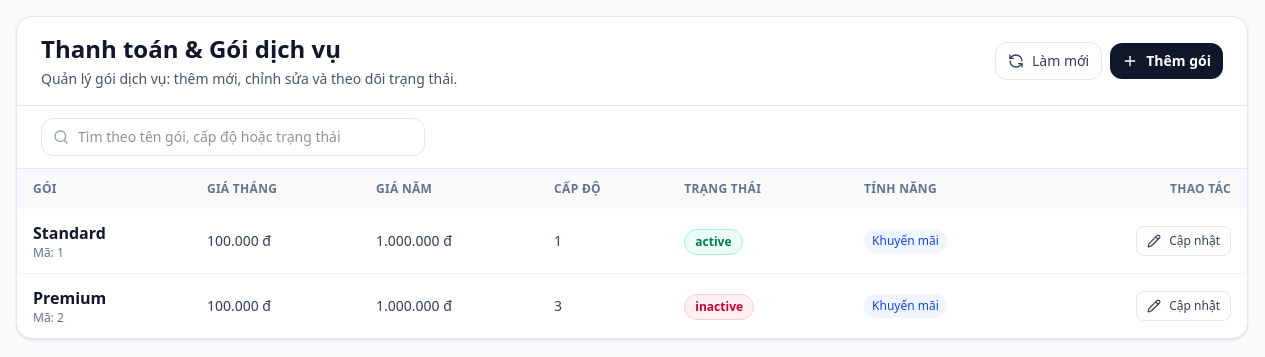
it: Integration: Admin Billing Subscriptions Flow › loads plans and supports search filtering
Expected: the heading "Thanh toán & Gói dịch vụ" is shown, [41,32,341,65]
Expected: the text "Standard" is shown, [33,221,106,245]
In the field with placeholder "Tìm theo tên gói, cấp độ hoặc trạng thái": (233, 137) [41,118,425,156], type "premium"
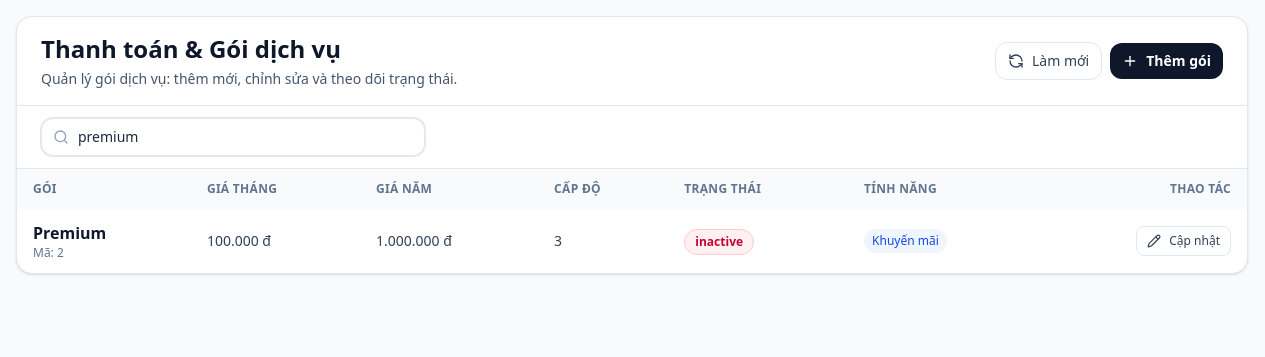
Expected: the text "Premium" is shown, [33,221,106,245]
Expected: the text "Standard" is gone
